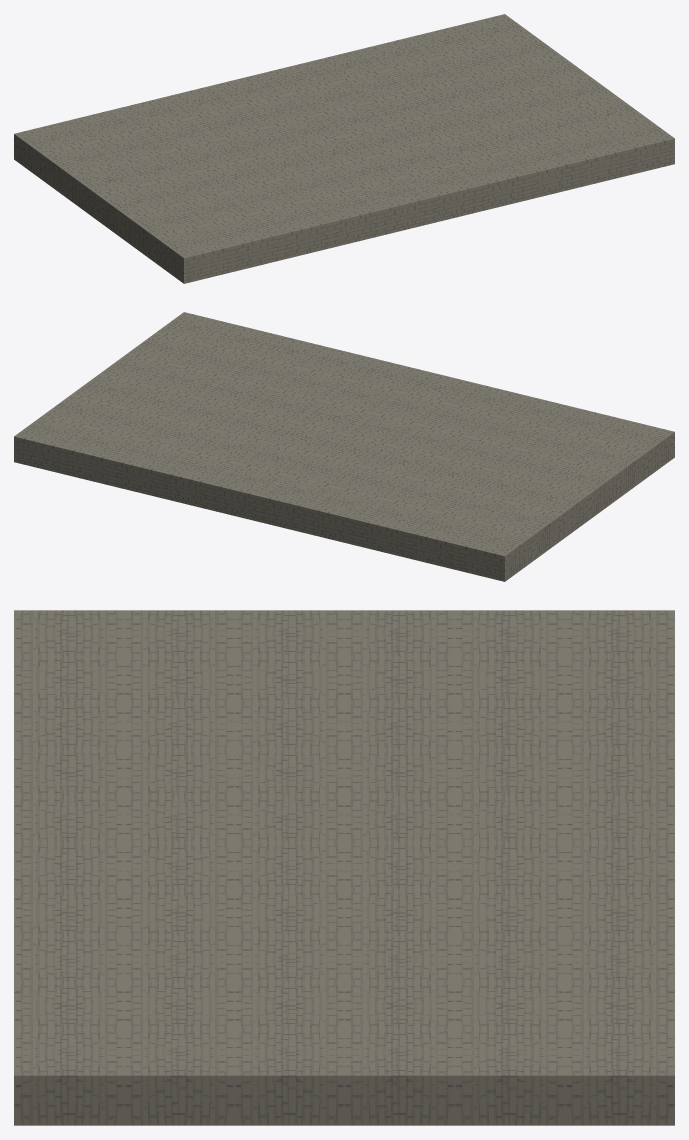
Rendered from CreditFrame.obj.
The picture shows the model from 3 angles, top to bottom: view 1: azimuth 30°, elevation 25°; view 2: azimuth 150°, elevation 25°; view 3: azimuth 270°, elevation 25°; orthographic projection. The views are drawn at different scales.
Parts seen in each view (by area): view 1: cuboid; view 2: cuboid; view 3: cuboid.
Part boxes in pixels (bbox=[...]): cuboid: bbox=[14, 14, 674, 283]; cuboid: bbox=[14, 312, 674, 581]; cuboid: bbox=[14, 610, 674, 1125].
Bounding box in the file's own units: 20 × 1 × 12.
